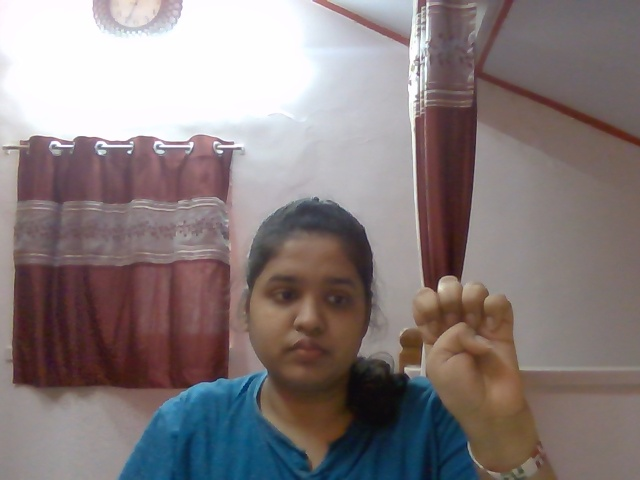e: (402, 273, 534, 423)
